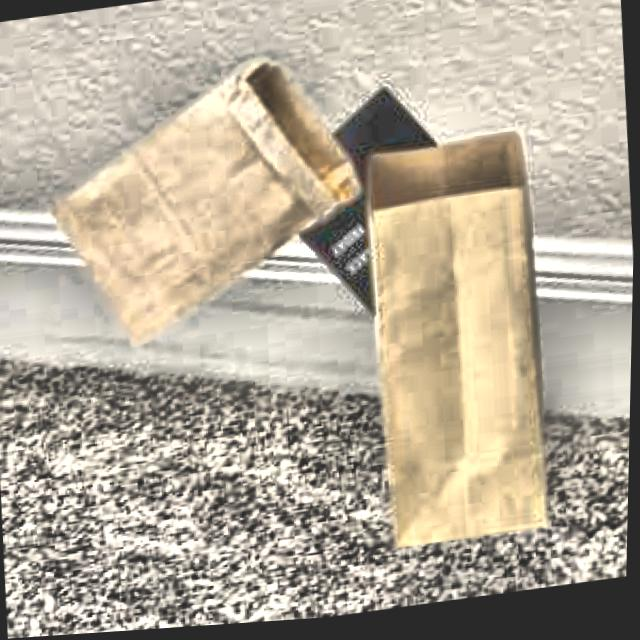Paper-bag: (33, 45, 376, 370), (340, 124, 579, 570)
